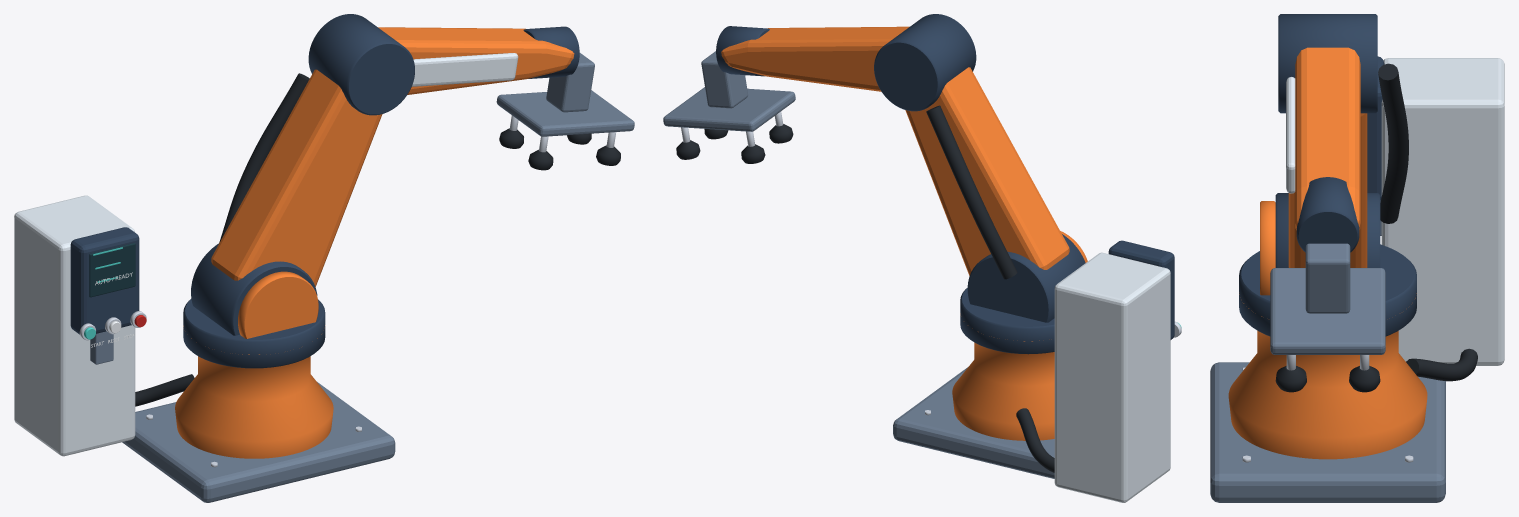
Rendered from robot.glb.
3 views of the same model, side by side, from view 1: azimuth 30°, elevation 25°; view 2: azimuth 150°, elevation 25°; view 3: azimuth 270°, elevation 25° (orthographic). The views are drawn at different scales.
Visible parts, largest first — view 1: Robot controller, Lower cast arm, Robot pedestal, Robot mounting plate, Elbow gearbox, Upper cast arm, Slew bearing, Robot pendant controller, Shoulder cover, Vacuum gripper, Shoulder bearing, Service cover (+6 smaller); view 2: Robot controller, Lower cast arm, Upper cast arm, Robot pedestal, Elbow gearbox, Robot mounting plate, Shoulder bearing, Slew bearing, Vacuum gripper, Arm service harness, Tool flange, Robot pendant controller (+2 smaller); view 3: Robot controller, Robot pedestal, Robot mounting plate, Upper cast arm, Vacuum gripper, Elbow gearbox, Slew bearing, Wrist motor, Arm service harness, Tool flange, Lower cast arm, Shoulder bearing (+6 smaller).
Boxes of the visible parts, bbox=[...] form: Robot controller: bbox=[14, 195, 135, 456]; Lower cast arm: bbox=[211, 69, 382, 286]; Robot pedestal: bbox=[175, 325, 333, 458]; Robot mounting plate: bbox=[122, 382, 395, 502]; Elbow gearbox: bbox=[308, 14, 414, 115]; Upper cast arm: bbox=[378, 27, 574, 94]; Slew bearing: bbox=[183, 299, 325, 368]; Robot pendant controller: bbox=[70, 227, 139, 334]; Shoulder cover: bbox=[238, 271, 318, 338]; Vacuum gripper: bbox=[496, 90, 634, 136]; Shoulder bearing: bbox=[191, 243, 317, 335]; Service cover: bbox=[411, 53, 518, 86]; Robot controller: bbox=[1054, 252, 1170, 502]; Lower cast arm: bbox=[905, 67, 1069, 275]; Upper cast arm: bbox=[721, 26, 909, 91]; Robot pedestal: bbox=[952, 340, 1054, 440]; Elbow gearbox: bbox=[874, 14, 976, 111]; Robot mounting plate: bbox=[893, 367, 1054, 478]; Shoulder bearing: bbox=[967, 234, 1085, 322]; Slew bearing: bbox=[960, 288, 1054, 354]; Vacuum gripper: bbox=[663, 87, 795, 131]; Arm service harness: bbox=[926, 105, 1017, 279]; Tool flange: bbox=[701, 51, 748, 108]; Robot pendant controller: bbox=[1108, 240, 1174, 339]; Robot controller: bbox=[1381, 58, 1504, 365]; Robot pedestal: bbox=[1228, 293, 1427, 459]; Robot mounting plate: bbox=[1210, 362, 1445, 502]; Upper cast arm: bbox=[1295, 47, 1360, 230]; Vacuum gripper: bbox=[1270, 268, 1385, 354]; Elbow gearbox: bbox=[1278, 14, 1377, 113]; Slew bearing: bbox=[1239, 244, 1416, 336]; Wrist motor: bbox=[1296, 177, 1359, 252]; Arm service harness: bbox=[1378, 63, 1408, 223]; Tool flange: bbox=[1305, 243, 1350, 313]; Lower cast arm: bbox=[1288, 113, 1367, 267]; Shoulder bearing: bbox=[1275, 193, 1380, 267].
Bounding box in the file's own units: 2.94 × 2.08 × 1.13.
